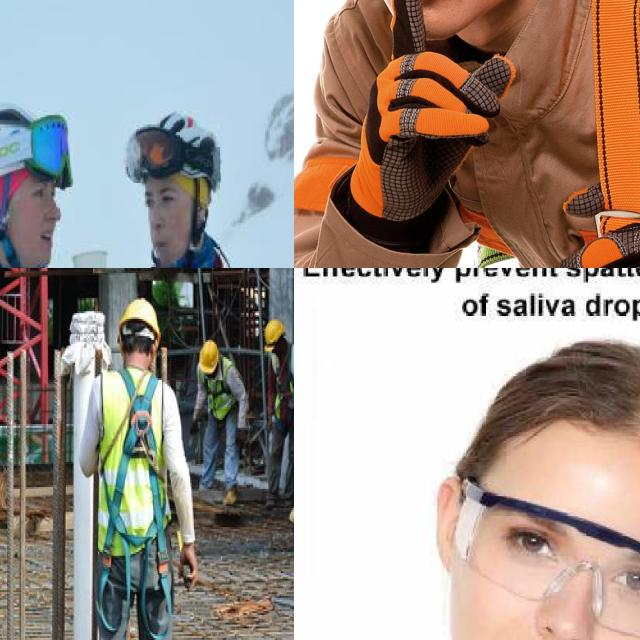Harness: (99, 367, 174, 640)
No_Glasses: (135, 185, 191, 213), (23, 179, 65, 205)
face_nomask: (478, 502, 640, 640), (137, 186, 181, 258), (23, 181, 66, 253)
glasses: (448, 468, 640, 640), (120, 120, 195, 186), (23, 107, 78, 188)
head_helmet: (114, 117, 233, 193), (0, 96, 69, 197)
head_nohelmet: (494, 335, 640, 466)
person: (294, 0, 640, 268), (106, 107, 294, 268), (0, 96, 124, 268)
